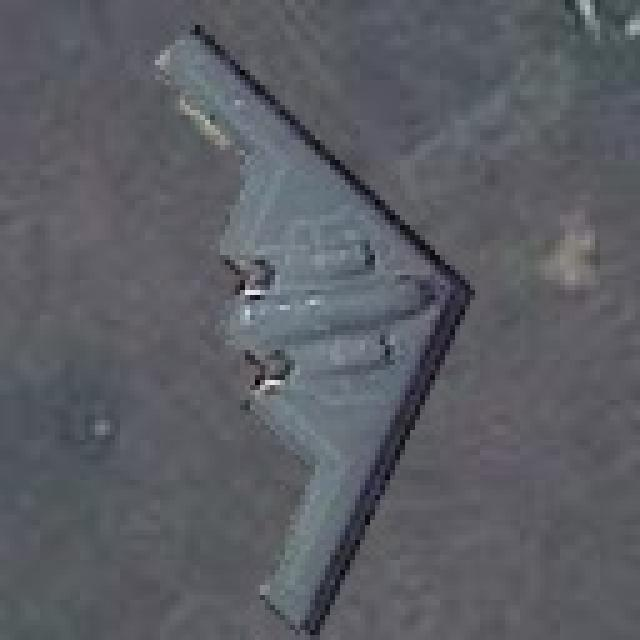B-2_TopDown: (140, 15, 475, 635)
